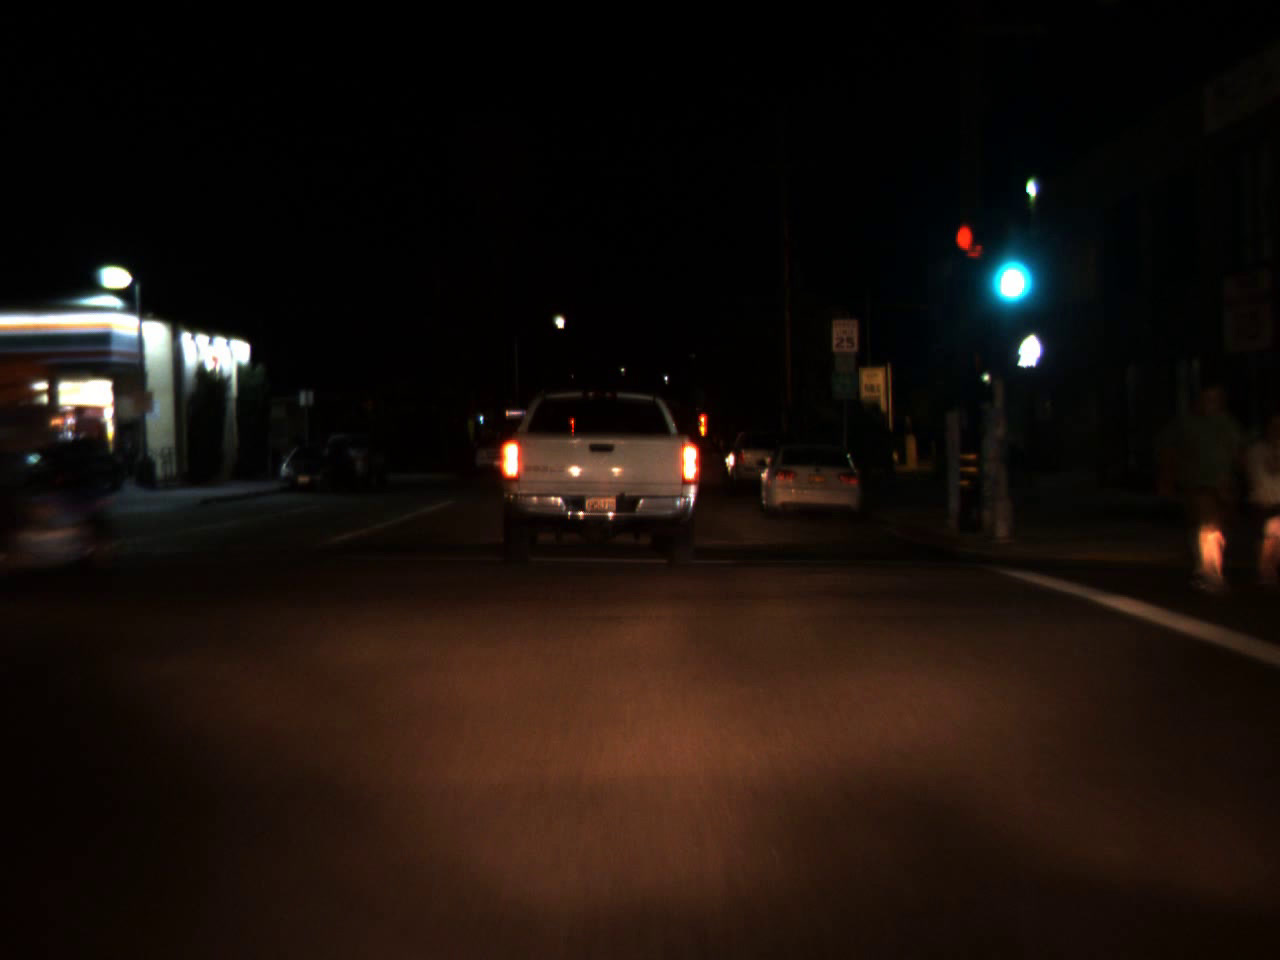go: (989, 231, 1030, 309)
stop: (695, 410, 710, 437)
